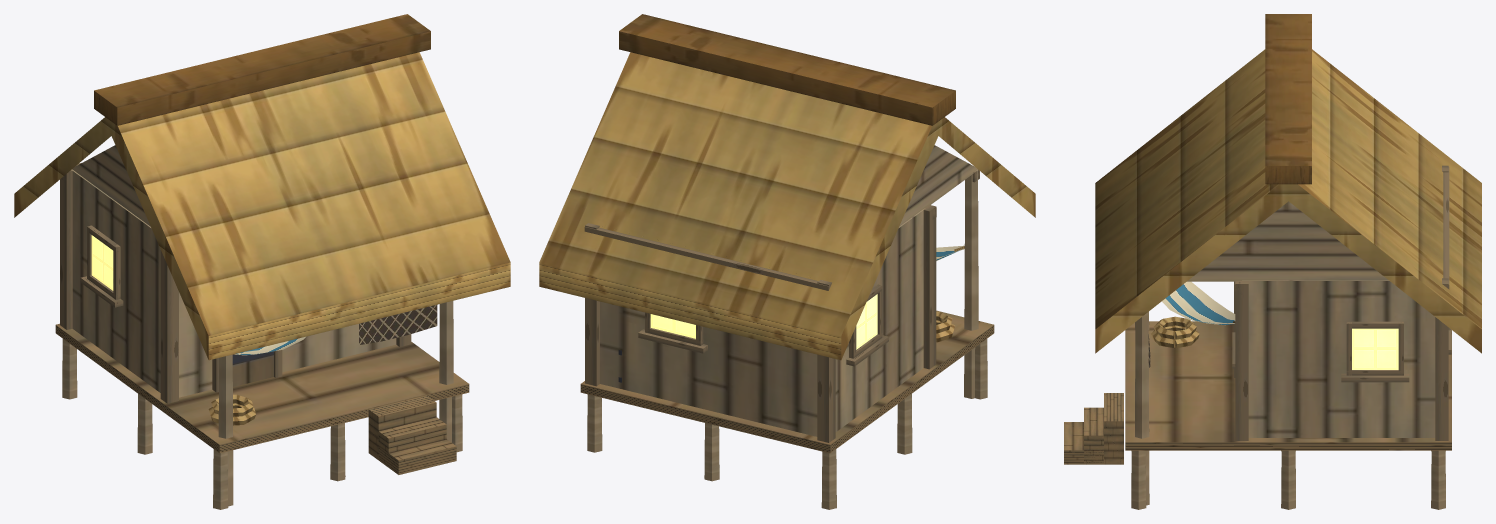
File: house_2.glb
The picture shows the model from 3 angles, left to right: view 1: azimuth 30°, elevation 25°; view 2: azimuth 150°, elevation 25°; view 3: azimuth 270°, elevation 25°; orthographic projection.
Parts seen in each view (by area): view 1: house_2; view 2: house_2; view 3: house_2.
Boxes of the visible parts, left/top/right/bottom form: house_2: left=14, top=14, right=510, bottom=509; house_2: left=539, top=14, right=1035, bottom=509; house_2: left=1064, top=14, right=1481, bottom=509.
Size of the model in its own units: 5.4 by 5.95 by 6.27.
4 materials, 4 textured.
